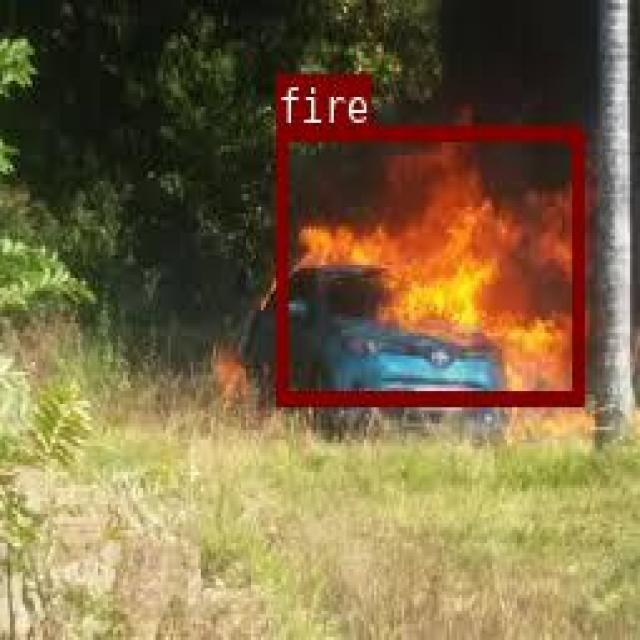fire: (275, 124, 582, 404)
